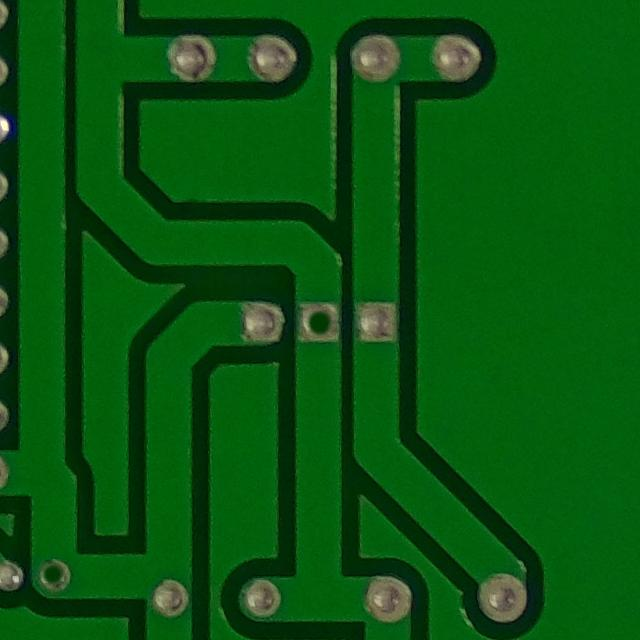missing_hole: (294, 292, 344, 352), (28, 546, 80, 601)
